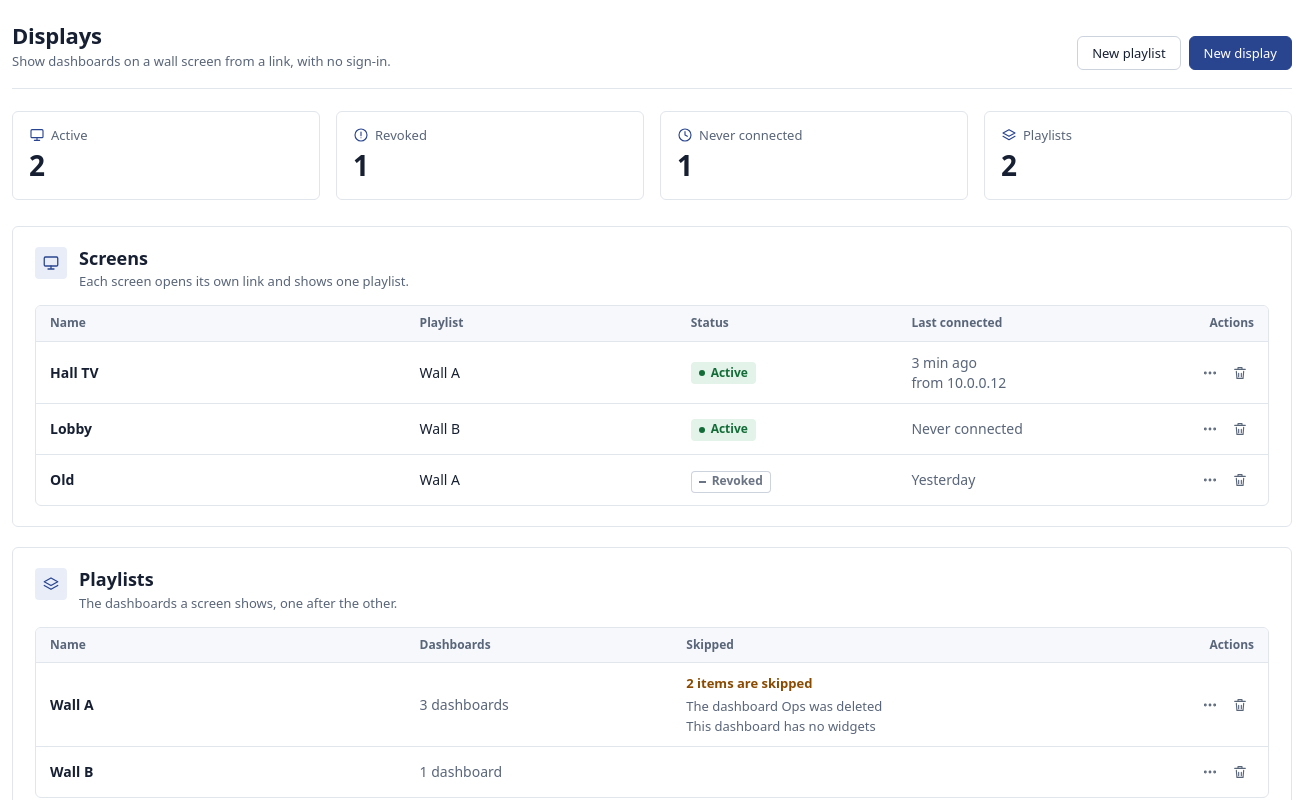
it: DisplaysPage: the row menus › turns Revoke off for a screen that is revoked already
The width and height of the screenshot is (1304, 800).
Expected: the cell "Old" is shown, top-left (36, 455), bottom-right (406, 505)
Click the button named "Actions for Old". click: (1210, 480)
box: top-left (1196, 466), bottom-right (1224, 494)
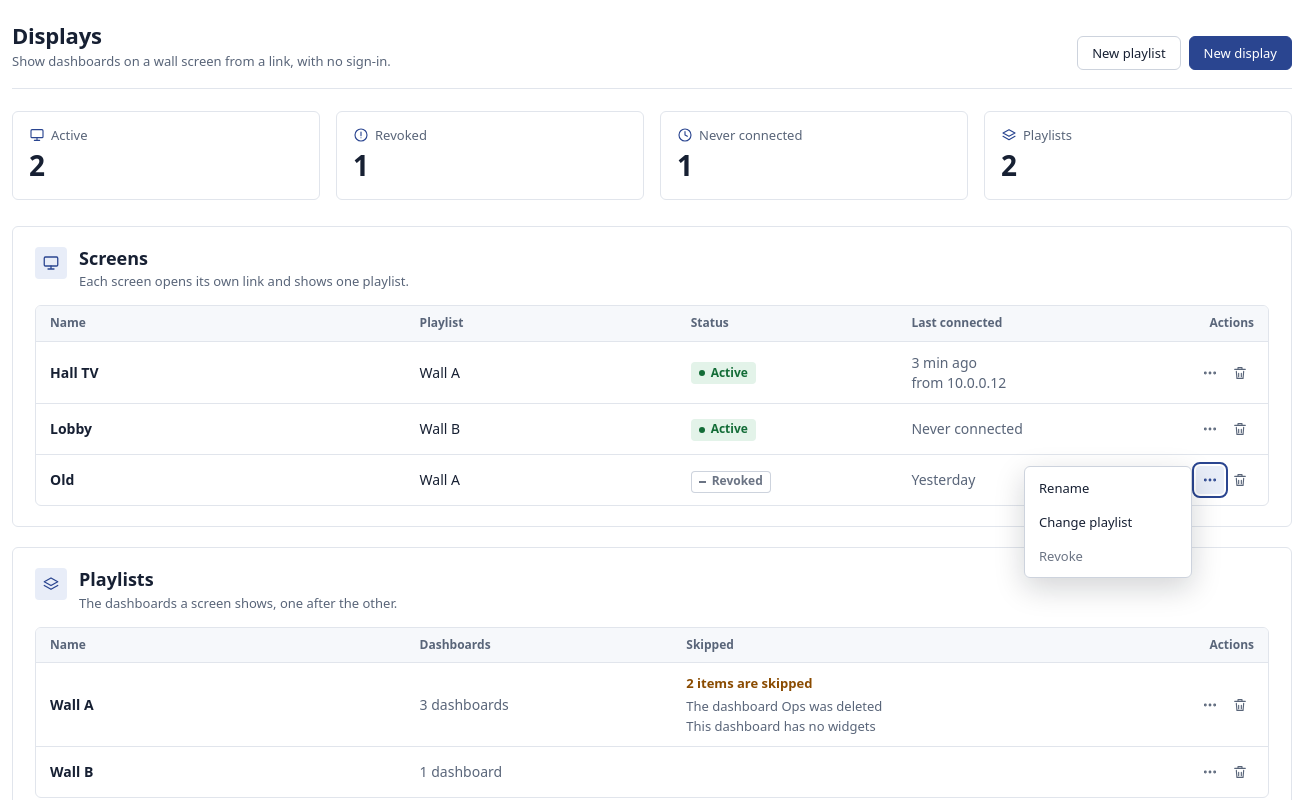
Now the menu item "Revoke" is disabled, box top-left (1029, 539), bottom-right (1187, 573)
Now the menu item "Rename" is enabled, box top-left (1029, 471), bottom-right (1187, 505)
